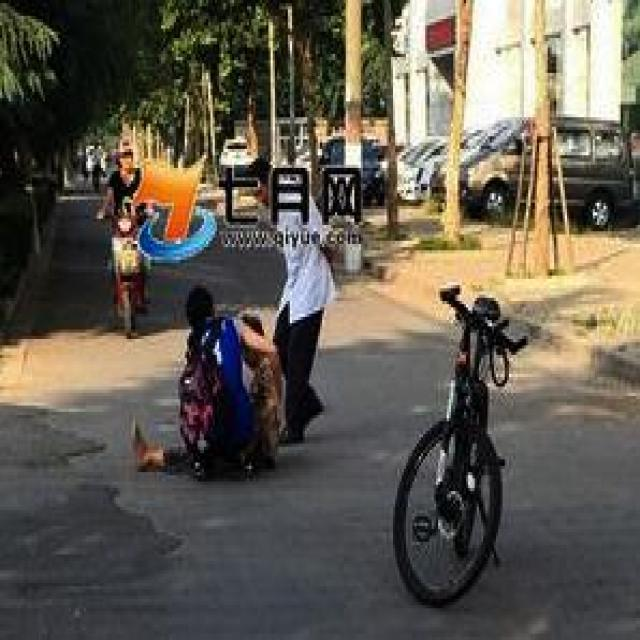fall: (133, 323, 279, 466)
